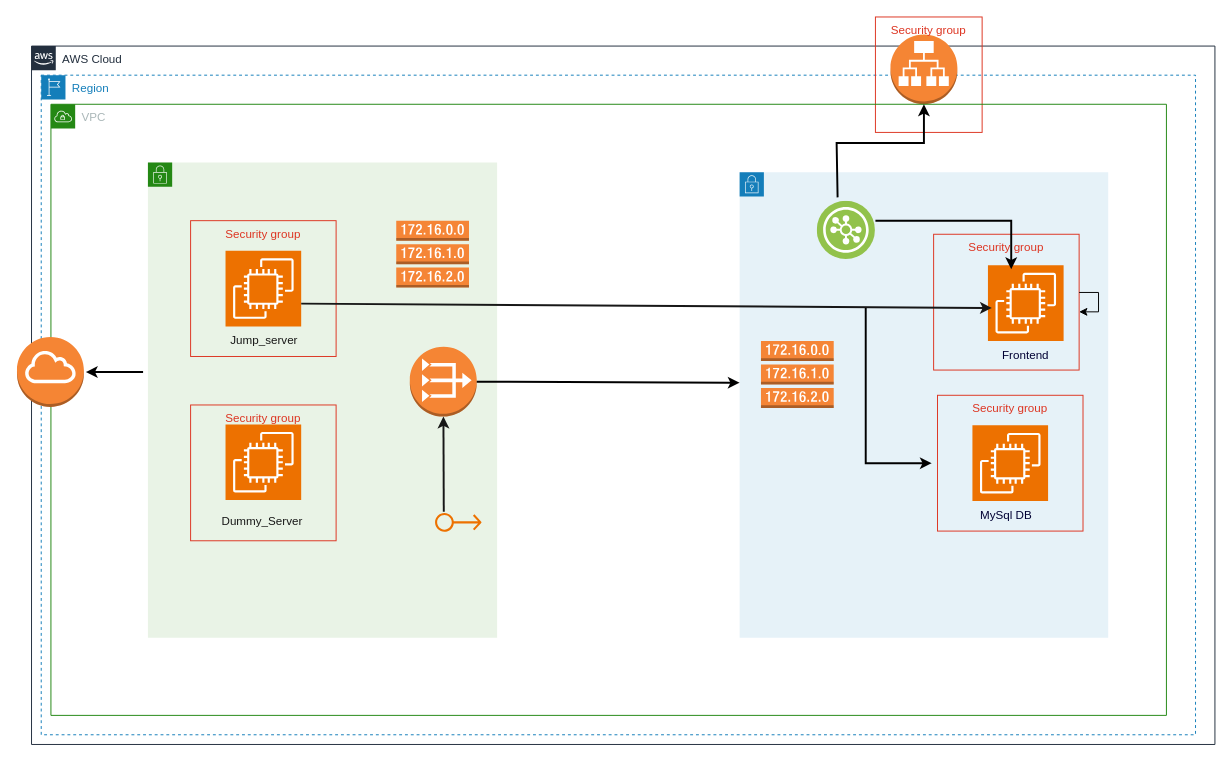
This 1232x761 diagram has some shape labels left out. The box of each missing label's shape, as (x1, y1, x2, y2) in pixels:
Private subnet: (739, 171, 1108, 638)
Public subnet: (147, 162, 497, 638)
